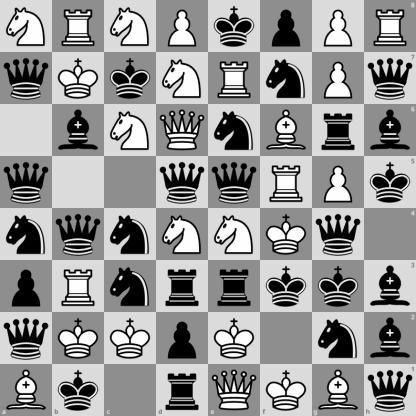B: (0, 364, 52, 416), (312, 364, 364, 416), (261, 105, 312, 156)
K: (260, 364, 312, 416), (53, 53, 104, 104), (53, 313, 104, 364), (105, 313, 156, 364), (209, 313, 260, 364), (261, 209, 312, 260)
N: (1, 1, 52, 52), (105, 1, 156, 52), (105, 105, 156, 156), (157, 53, 208, 104), (157, 209, 208, 260), (209, 209, 260, 260)
P: (157, 1, 208, 52), (313, 1, 364, 52), (313, 53, 364, 104), (313, 157, 364, 208)
Q: (209, 364, 260, 416), (157, 105, 208, 156)
R: (364, 0, 416, 52), (53, 1, 104, 52), (53, 261, 104, 312), (209, 53, 260, 104), (261, 157, 312, 208)
b: (364, 104, 416, 156), (364, 260, 416, 312), (364, 312, 416, 364), (53, 105, 104, 156)
board: (0, 0, 415, 415)
k: (364, 156, 416, 209), (52, 364, 104, 416), (105, 53, 156, 104), (209, 1, 260, 52), (261, 261, 312, 312), (313, 261, 364, 312)
n: (1, 209, 52, 260), (105, 209, 156, 260), (105, 261, 156, 312), (209, 105, 260, 156), (261, 53, 312, 104), (313, 313, 364, 364)
p: (1, 261, 52, 312), (157, 313, 208, 364), (261, 1, 312, 52)
q: (364, 52, 416, 104), (364, 364, 416, 416), (1, 53, 52, 104), (1, 157, 52, 208), (1, 313, 52, 364), (53, 209, 104, 260), (157, 157, 208, 208), (209, 157, 260, 208), (313, 209, 364, 260)
r: (156, 364, 209, 416), (157, 261, 208, 312), (209, 261, 260, 312), (313, 105, 364, 156)
